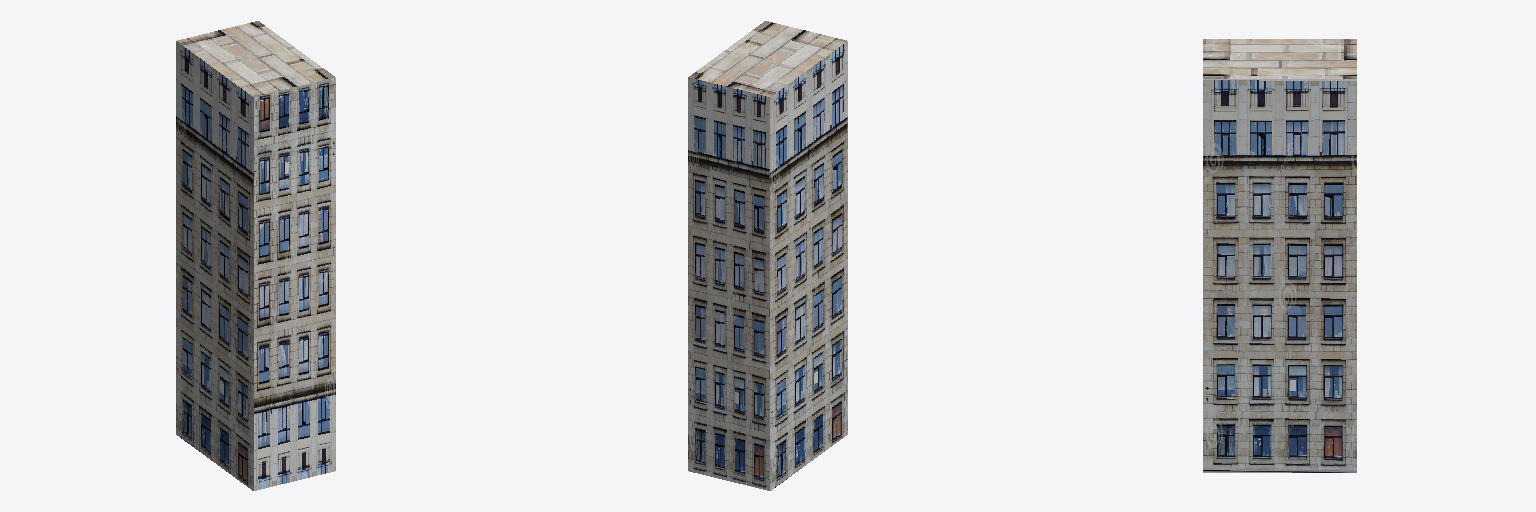
3 renders of one model, left to right at view 1: azimuth 30°, elevation 25°; view 2: azimuth 150°, elevation 25°; view 3: azimuth 270°, elevation 25°, orthographic.
Parts seen in each view (by area): view 1: Cube; view 2: Cube; view 3: Cube.
Part boxes in pixels (x1,y1,x2,y2): Cube: (176, 21, 335, 490); Cube: (688, 21, 847, 490); Cube: (1203, 39, 1356, 472).
Size of the model in its own units: 2.84 by 12.99 by 4.62.
Materials: 1 (1 with a texture image).